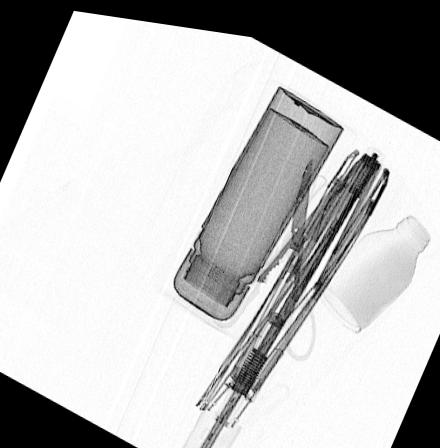Scissors: (209, 145, 346, 353)
